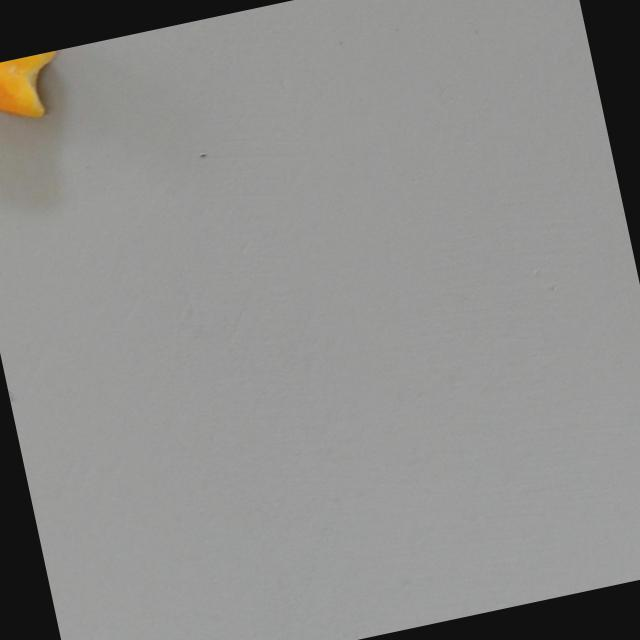dañado: (0, 47, 82, 137)
